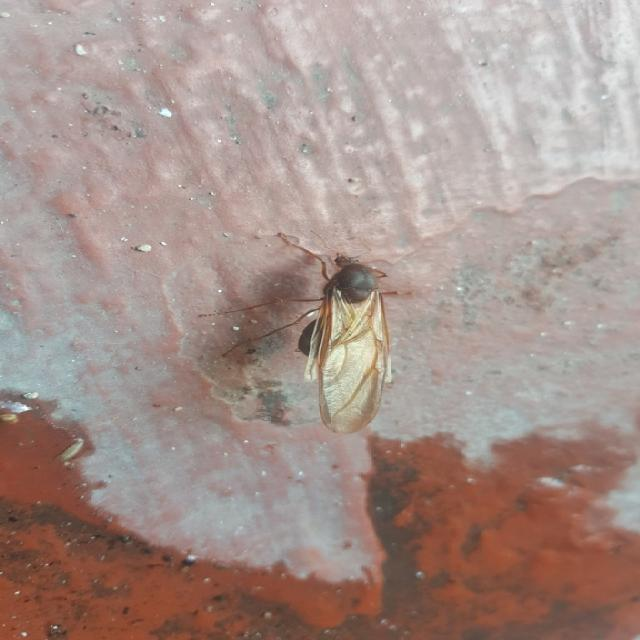Alive-Male-Alate: (197, 232, 398, 435)
